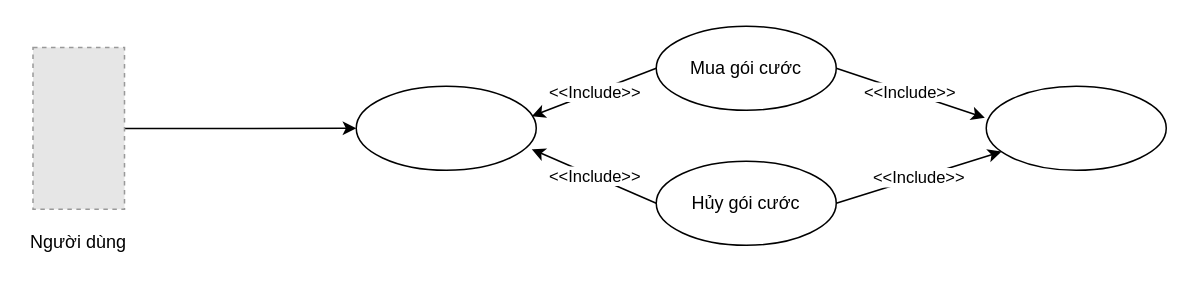
Image size: 1193x284. Some labels were removed from this diagram. Grey dashed boxes stand in for pictures. The shapes that lost their labels are listed below. From the top down, each one's box as (x1, y1, x2, y2) in pixels, then its label:
(355, 85, 536, 170): Quản lý gói cước
(985, 85, 1166, 170): Hiển thị
